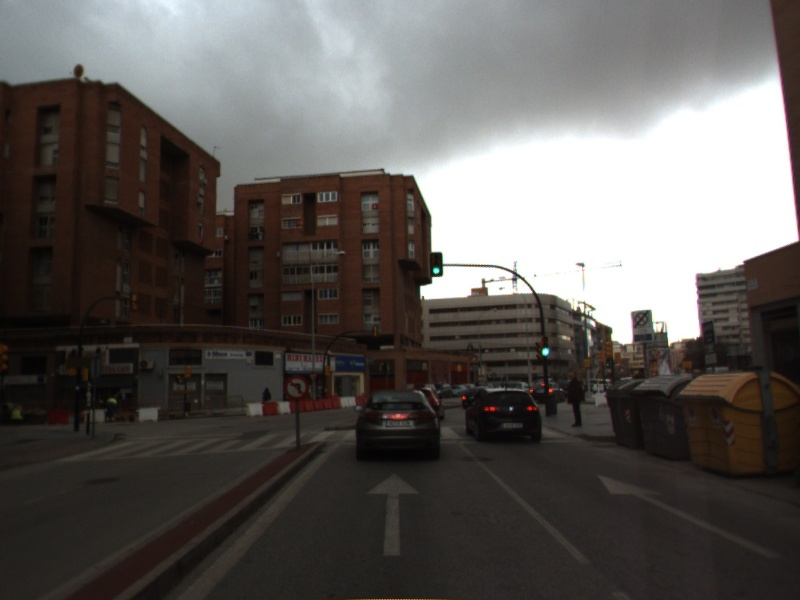STRAIGHT: (595, 472, 782, 560), (364, 471, 423, 558)
